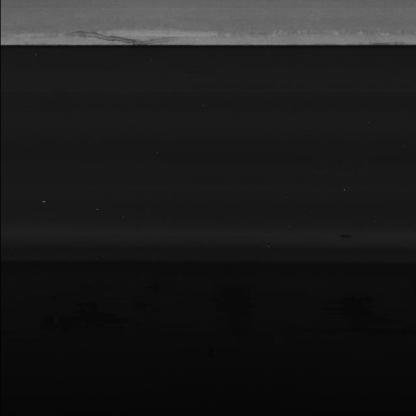water_spot: (62, 17, 175, 44)
